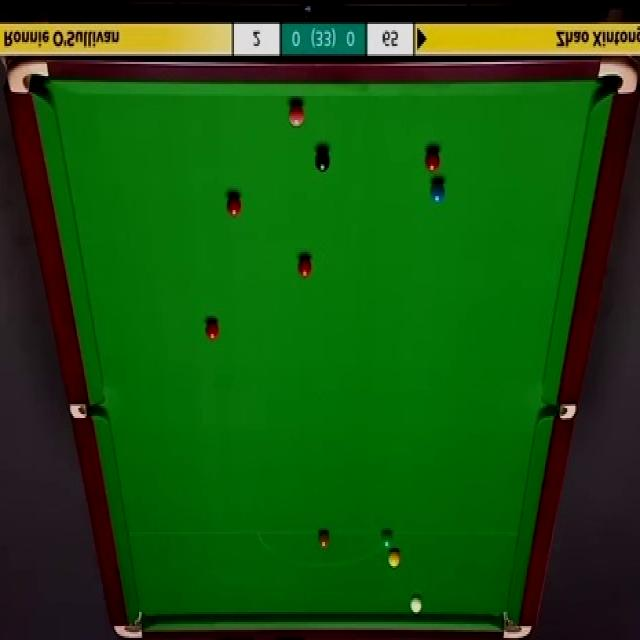pocket: (596, 58, 640, 97), (7, 58, 51, 97), (112, 606, 145, 640), (499, 608, 530, 640), (539, 400, 576, 422), (67, 405, 105, 420)
